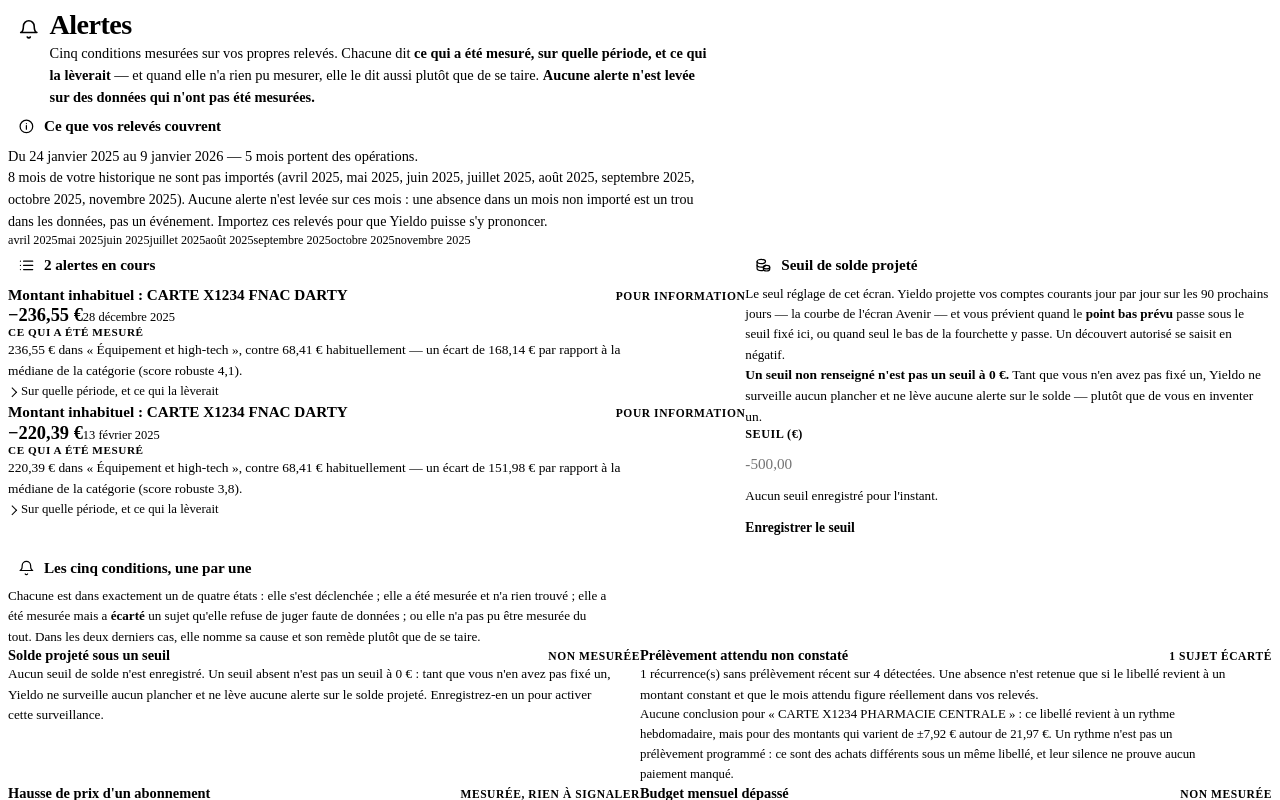
Test: AlertsPage — the threshold › refuses an unreadable amount rather than rounding it silently
The image size is (1280, 800).
Type "mille euros" into the field labelled "Seuil (€)" at x=1009, y=464, box [745,442,1272,486]
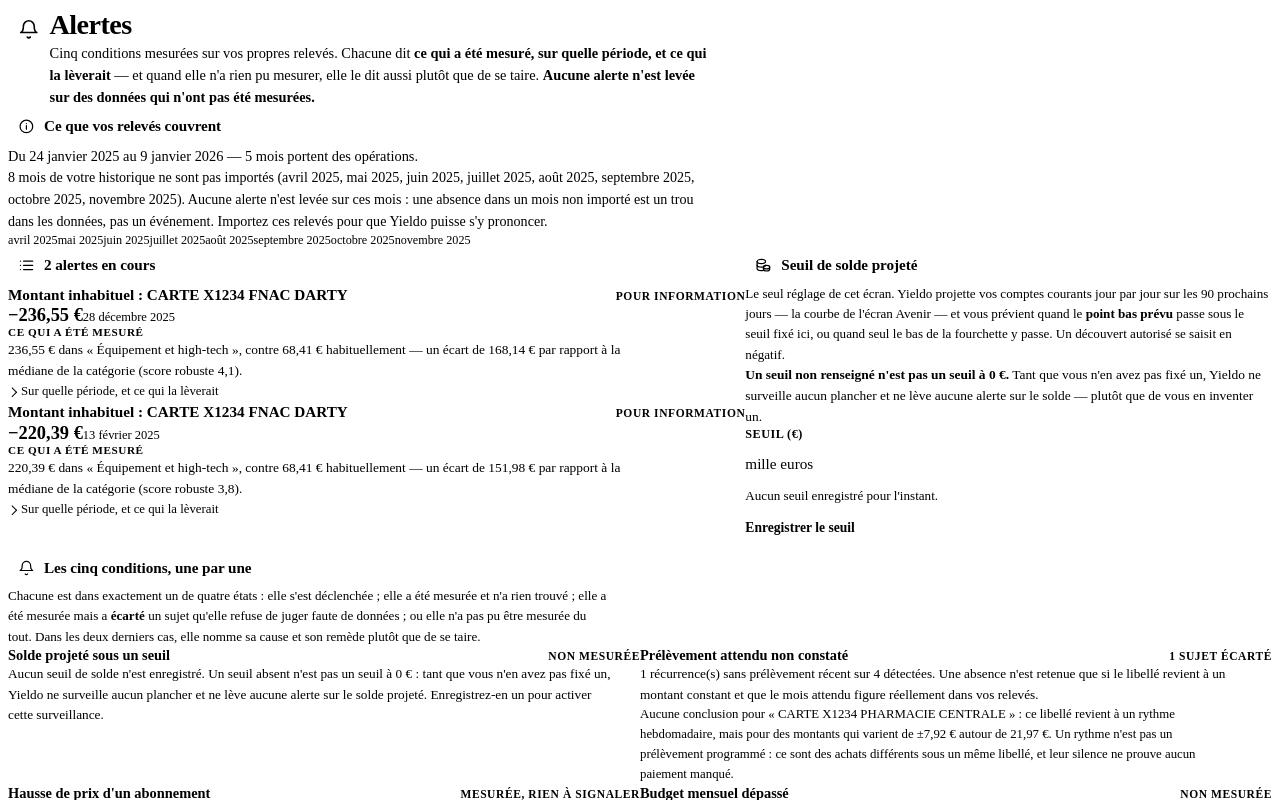
Click the button "Enregistrer le seuil" at x=800, y=528, box [745,506,855,550]
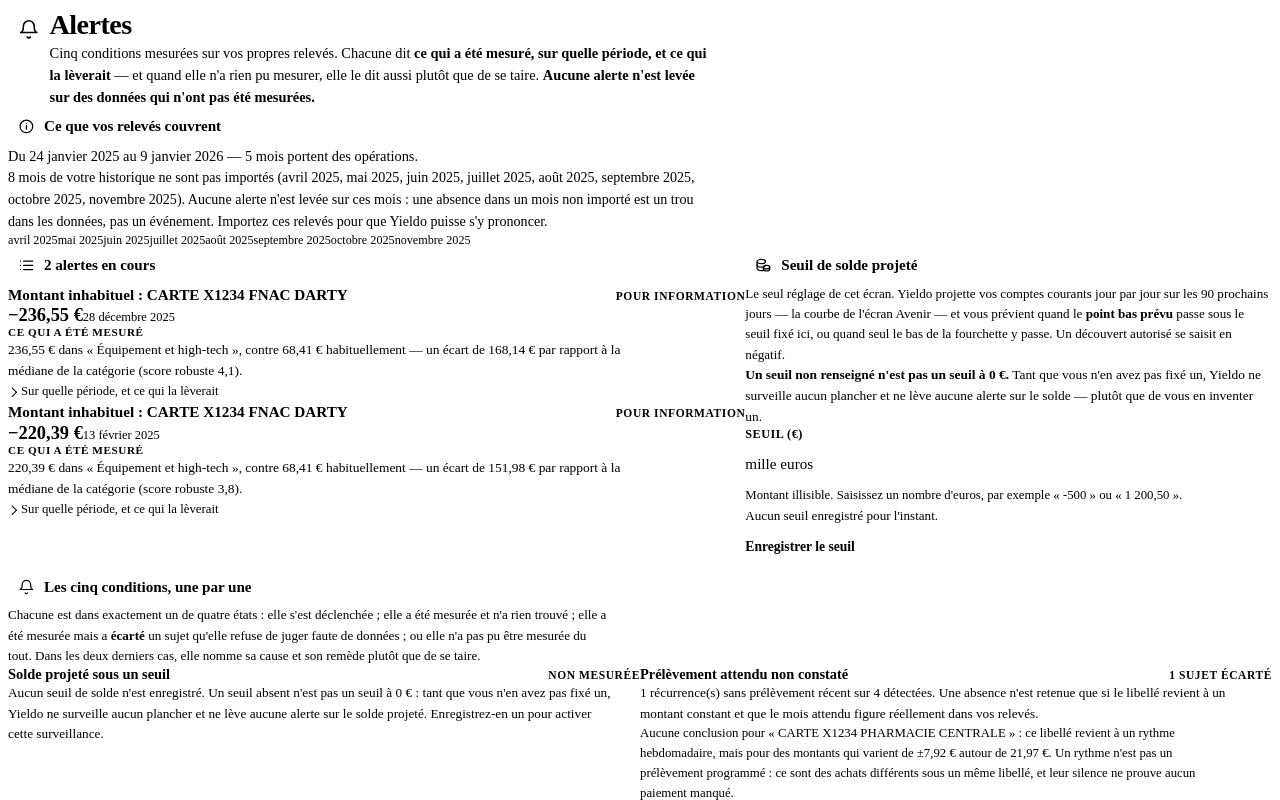
Expected: the text with test id "yd-alerts-floor-error" shows "Montant illisible", [745,488,1182,502]
